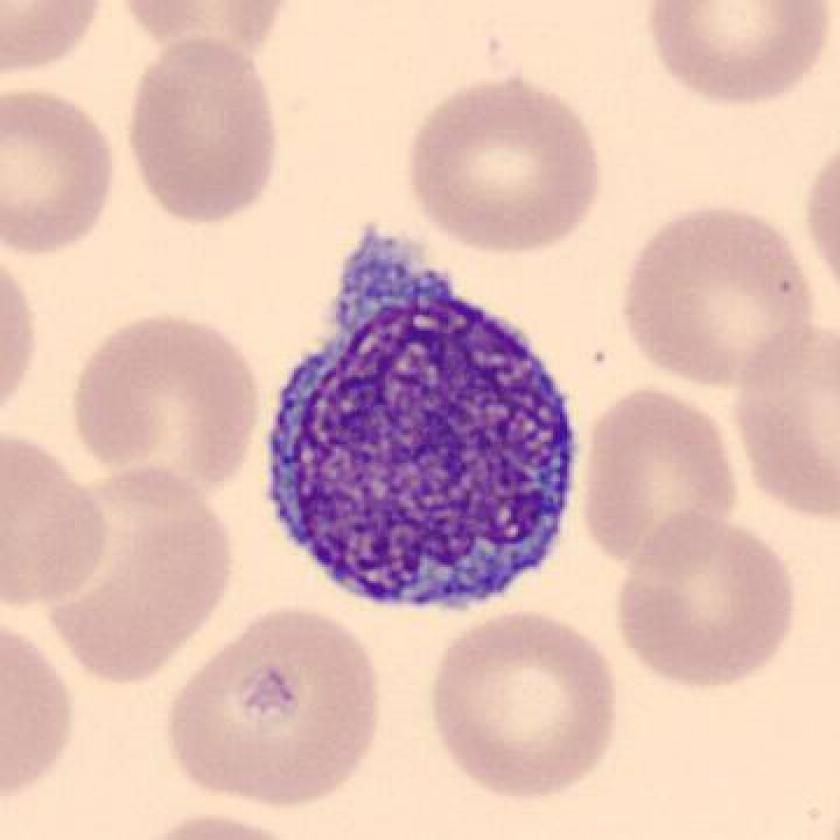monocyte: (244, 214, 584, 630)
